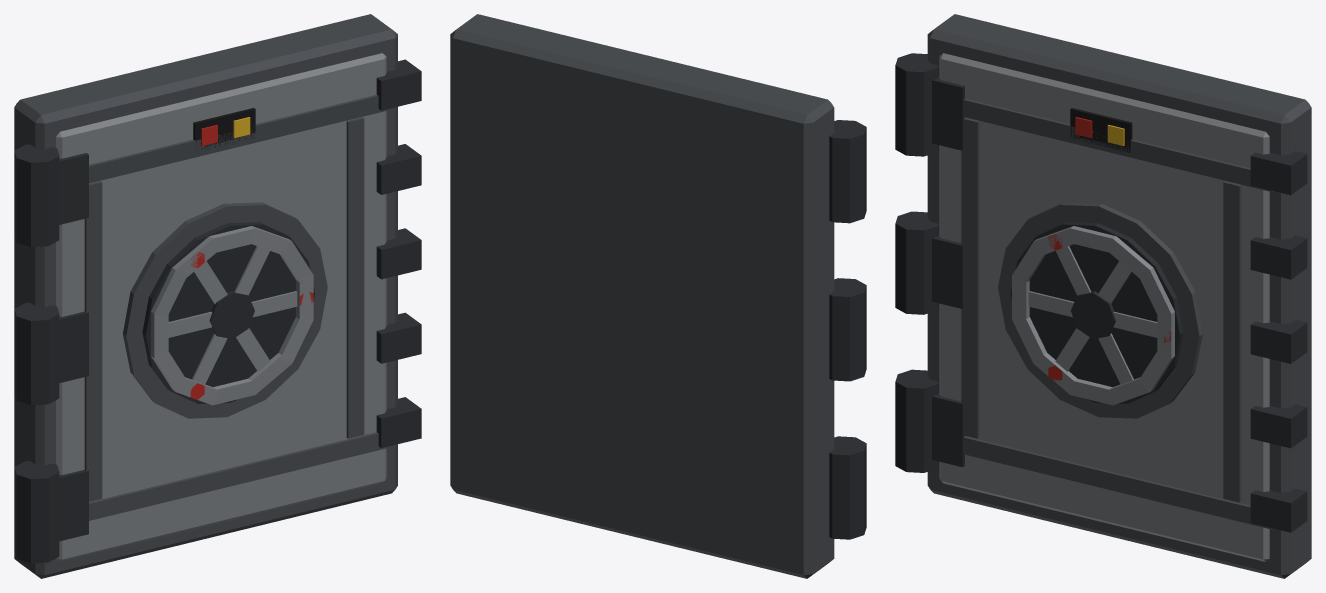
The model's file is prop_vault_door_leaf.fbx.
3 views of the same model, side by side, from view 1: azimuth 30°, elevation 25°; view 2: azimuth 150°, elevation 25°; view 3: azimuth 330°, elevation 25° (orthographic).
Visible parts, largest first — view 1: prop_vault_door_leaf; view 2: prop_vault_door_leaf; view 3: prop_vault_door_leaf.
Boxes of the visible parts, x1=… form: prop_vault_door_leaf: x1=14, y1=14, x2=421, y2=578; prop_vault_door_leaf: x1=450, y1=14, x2=866, y2=578; prop_vault_door_leaf: x1=895, y1=14, x2=1311, y2=578.
Size of the model in its own units: 1.98 by 2.2 by 0.36.
